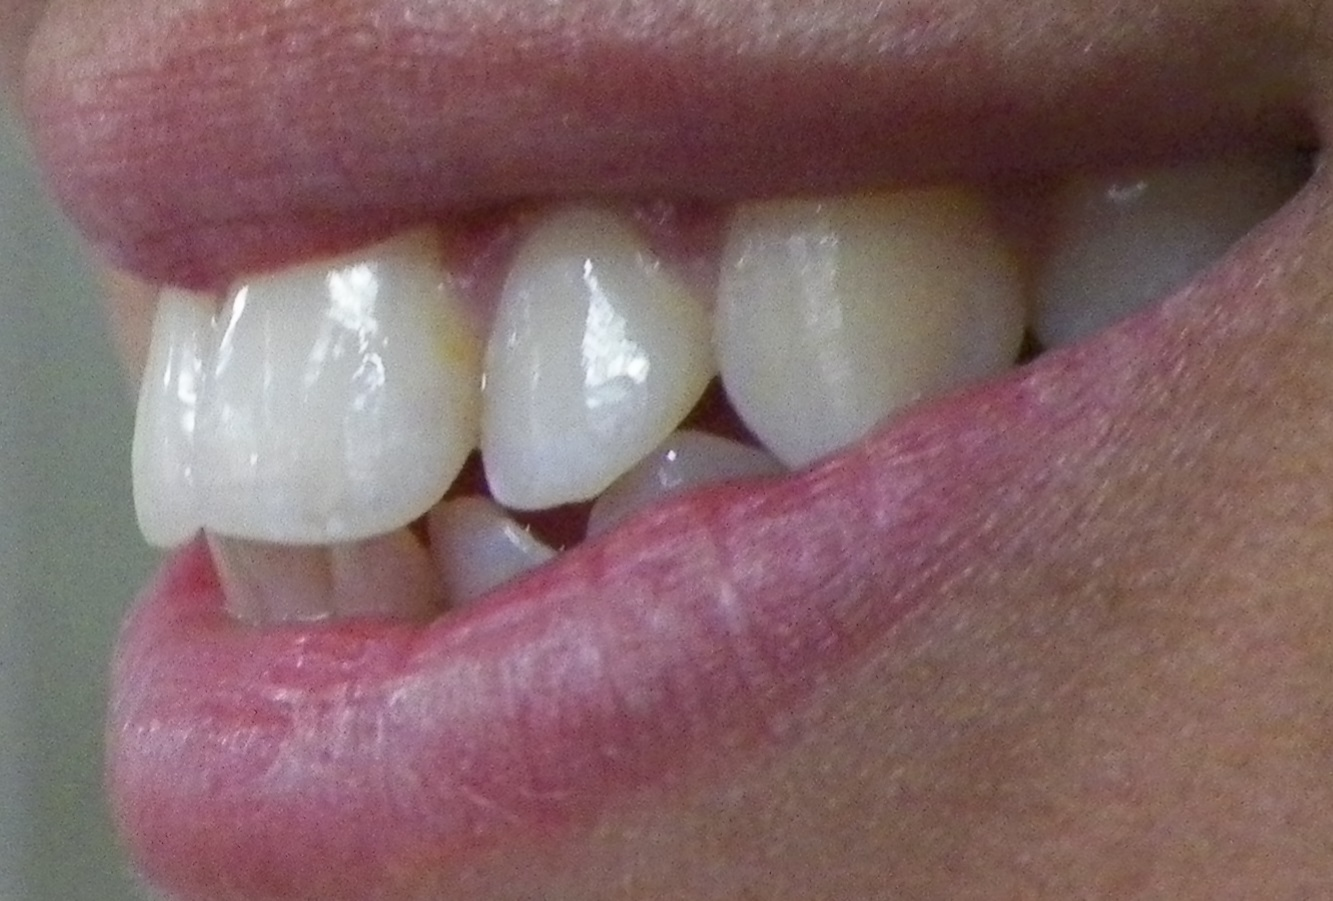boca: (139, 153, 1266, 646)
